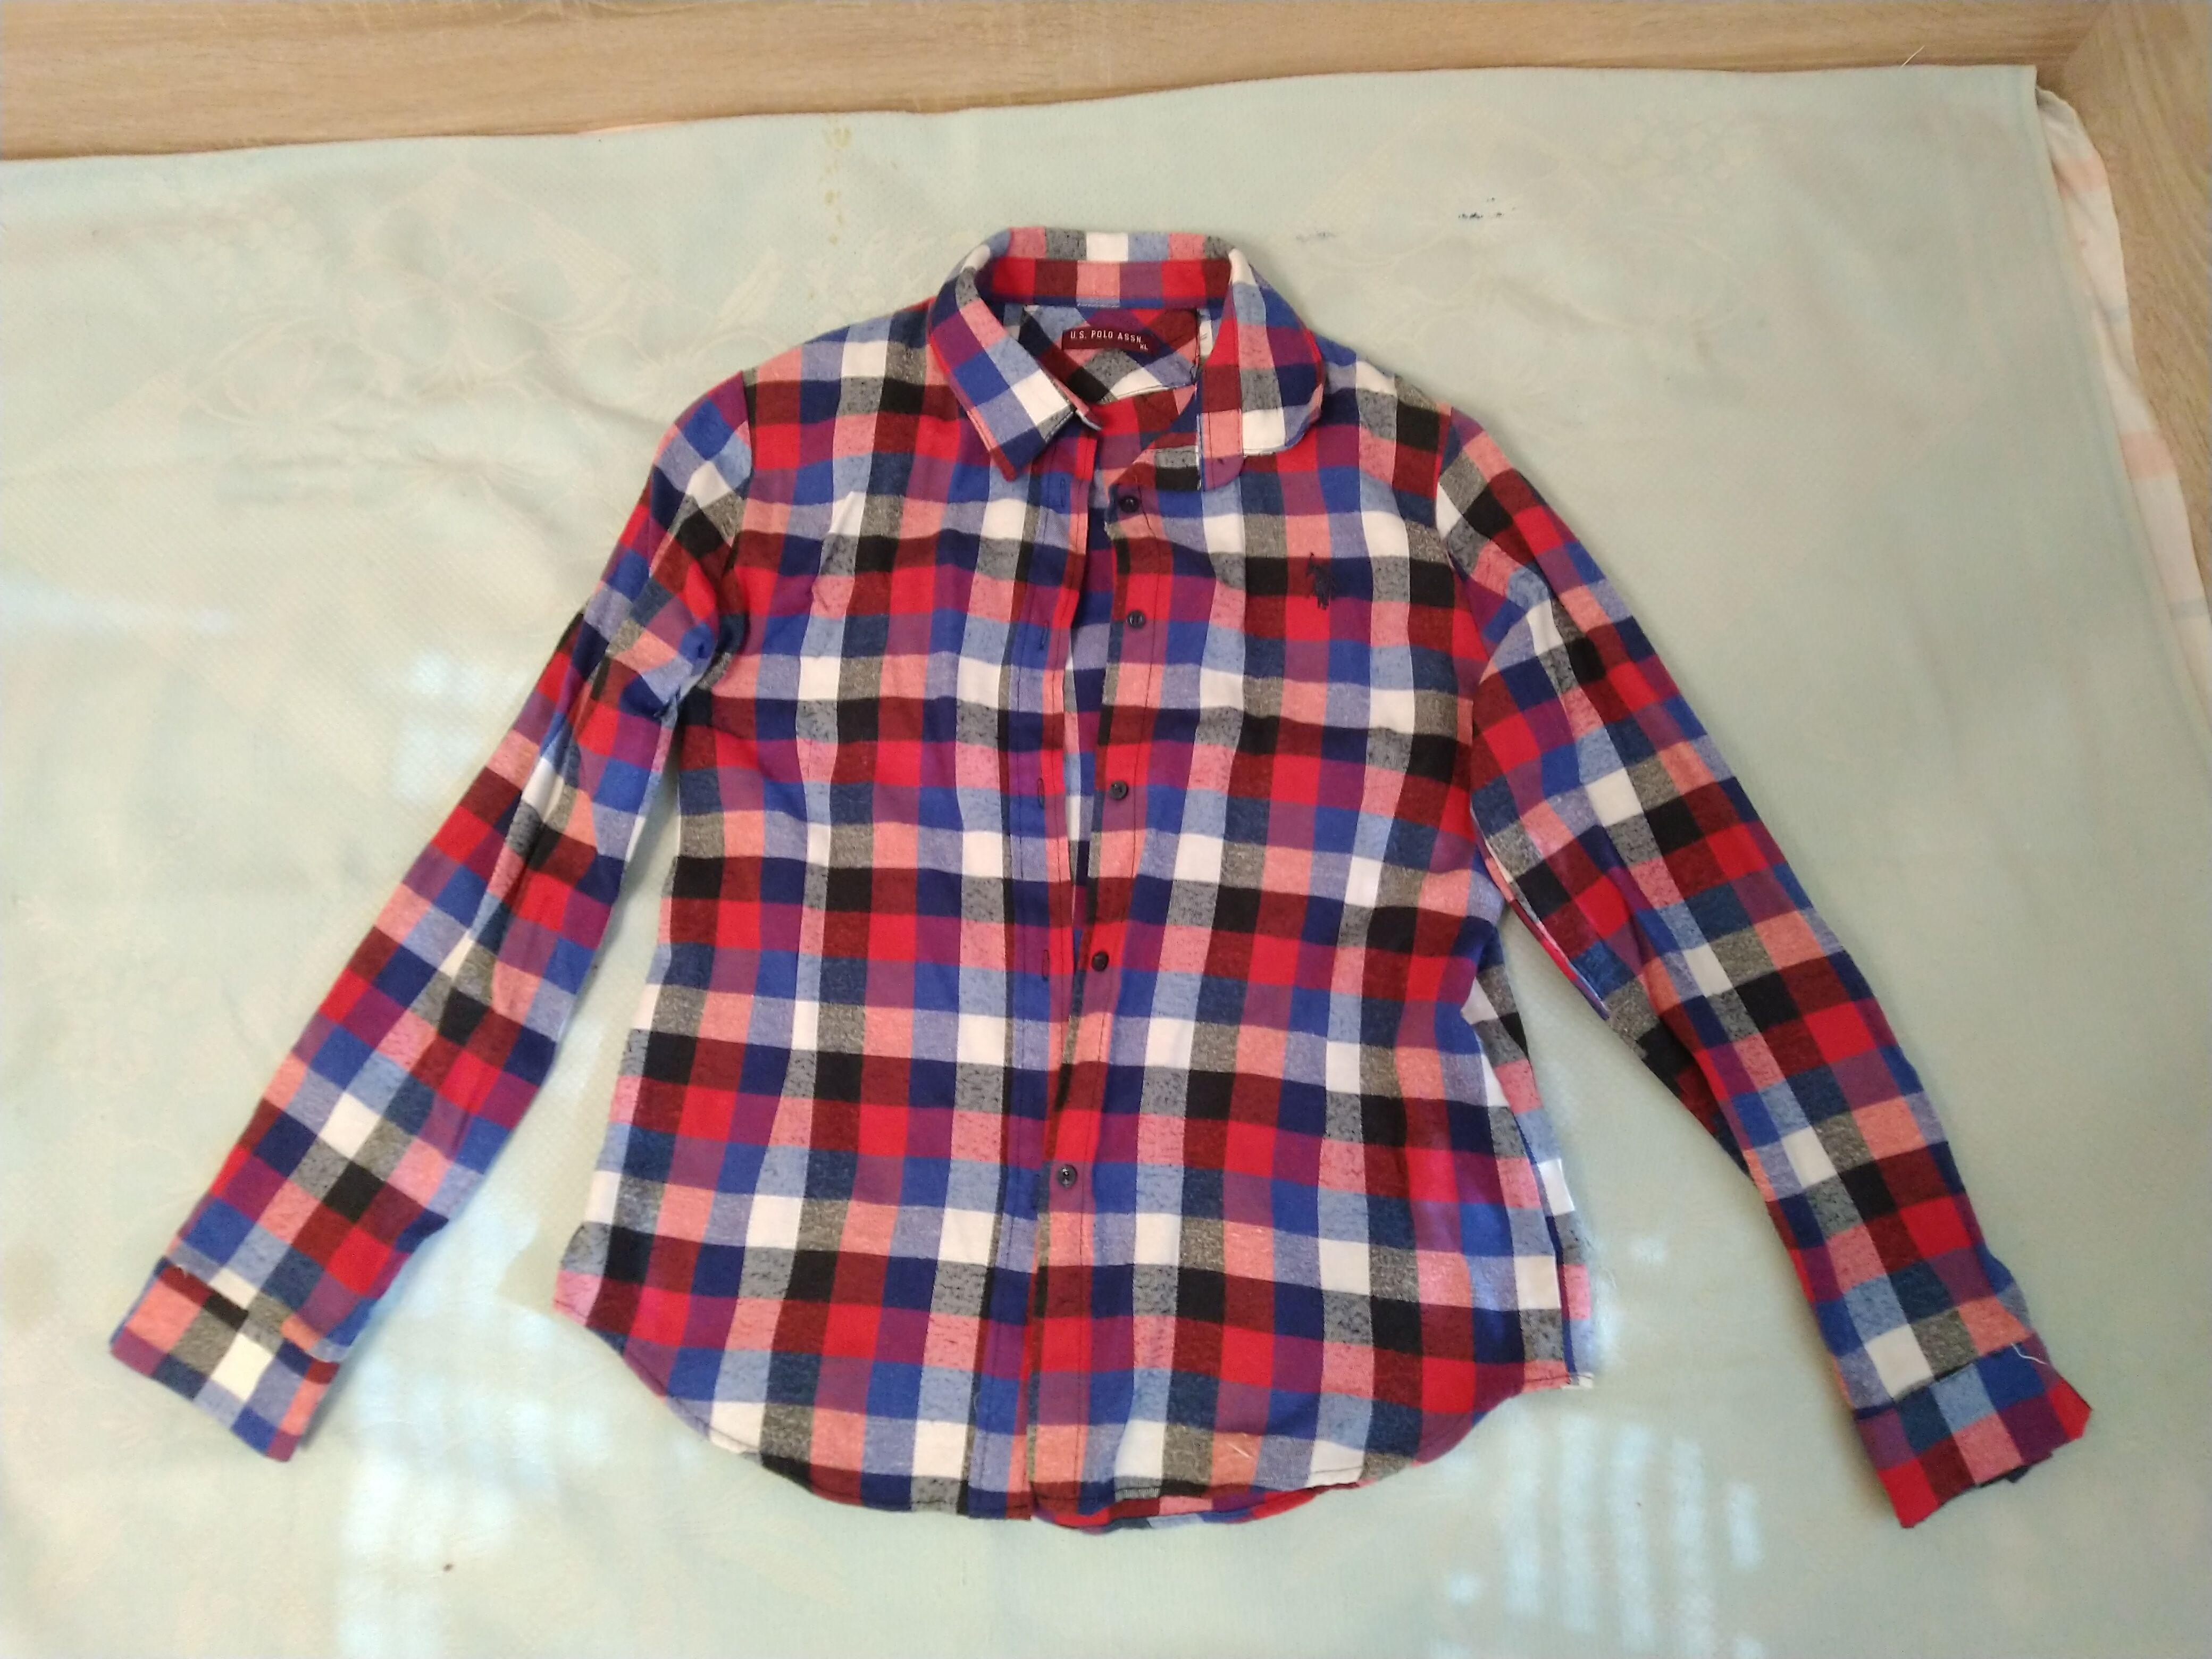clothes: (92, 235, 2099, 1547)
